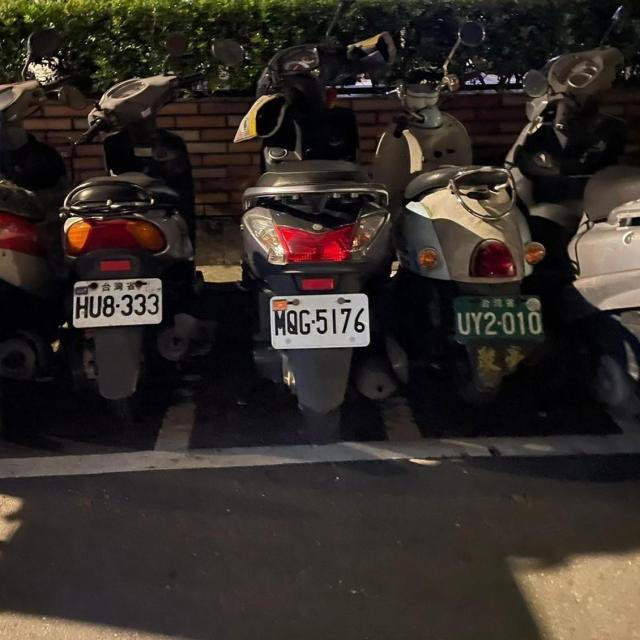GW: (438, 291, 554, 351)
W: (267, 290, 374, 349), (68, 274, 168, 329)
